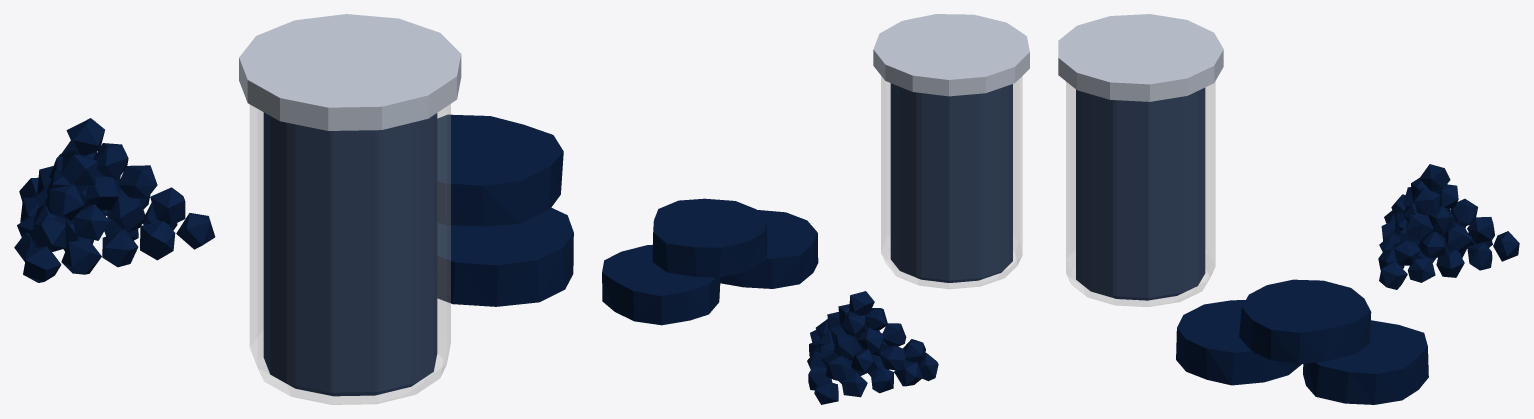
File: salal-edible-spread.glb
The picture shows the model from 3 angles, left to right: view 1: azimuth 30°, elevation 25°; view 2: azimuth 150°, elevation 25°; view 3: azimuth 270°, elevation 25°; orthographic projection. The views are drawn at different scales.
Parts seen in each view (by area): view 1: Cylinder.019, Cylinder.020, Cylinder.018, Cylinder.017, Icosphere.027, Icosphere.047, Icosphere.029, Icosphere.018, Icosphere.043, Icosphere.028, Icosphere.041, Icosphere.052 (+7 smaller); view 2: Cylinder.019, Cylinder.020, Cylinder.018, Cylinder.016, Cylinder.017, Icosphere.034, Icosphere.019, Icosphere.020, Icosphere.038, Icosphere.052, Icosphere.045, Icosphere.037 (+7 smaller); view 3: Cylinder.019, Cylinder.020, Cylinder.018, Cylinder.016, Cylinder.017, Icosphere.024, Icosphere.052, Icosphere.047, Icosphere.022, Icosphere.038, Icosphere.026, Icosphere.023 (+8 smaller).
Boxes of the visible parts, x1,y1,x2,y2 form: Cylinder.019: [239, 14, 461, 404]; Cylinder.020: [263, 112, 437, 396]; Cylinder.018: [437, 114, 563, 226]; Cylinder.017: [437, 207, 573, 306]; Icosphere.027: [140, 221, 175, 260]; Icosphere.047: [118, 165, 157, 198]; Icosphere.029: [61, 239, 101, 274]; Icosphere.018: [23, 246, 61, 282]; Icosphere.043: [45, 184, 84, 220]; Icosphere.028: [102, 229, 138, 267]; Icosphere.041: [150, 187, 185, 225]; Icosphere.052: [66, 118, 104, 155]; Cylinder.019: [873, 14, 1029, 288]; Cylinder.020: [890, 83, 1012, 282]; Cylinder.018: [652, 198, 767, 277]; Cylinder.016: [602, 245, 720, 325]; Cylinder.017: [720, 210, 818, 288]; Icosphere.034: [879, 345, 905, 370]; Icosphere.019: [894, 362, 922, 386]; Icosphere.020: [870, 367, 894, 393]; Icosphere.038: [825, 355, 852, 381]; Icosphere.052: [849, 291, 874, 315]; Icosphere.045: [834, 334, 860, 358]; Icosphere.037: [851, 349, 877, 375]; Cylinder.019: [1058, 14, 1223, 306]; Cylinder.020: [1076, 87, 1205, 300]; Cylinder.018: [1239, 279, 1371, 364]; Cylinder.016: [1303, 320, 1428, 404]; Cylinder.017: [1176, 300, 1301, 385]; Icosphere.024: [1436, 250, 1464, 277]; Icosphere.052: [1419, 164, 1450, 191]; Icosphere.047: [1406, 215, 1433, 241]; Icosphere.022: [1493, 231, 1519, 261]; Icosphere.038: [1467, 217, 1494, 243]; Icosphere.026: [1379, 261, 1407, 289]; Icosphere.023: [1467, 242, 1492, 270].
Bounding box in the file's own units: 3.44 × 2.11 × 3.75.
